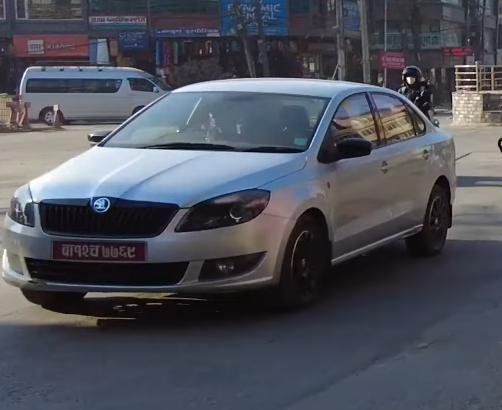car: (0, 66, 462, 304)
micro_bus: (18, 62, 172, 130)
